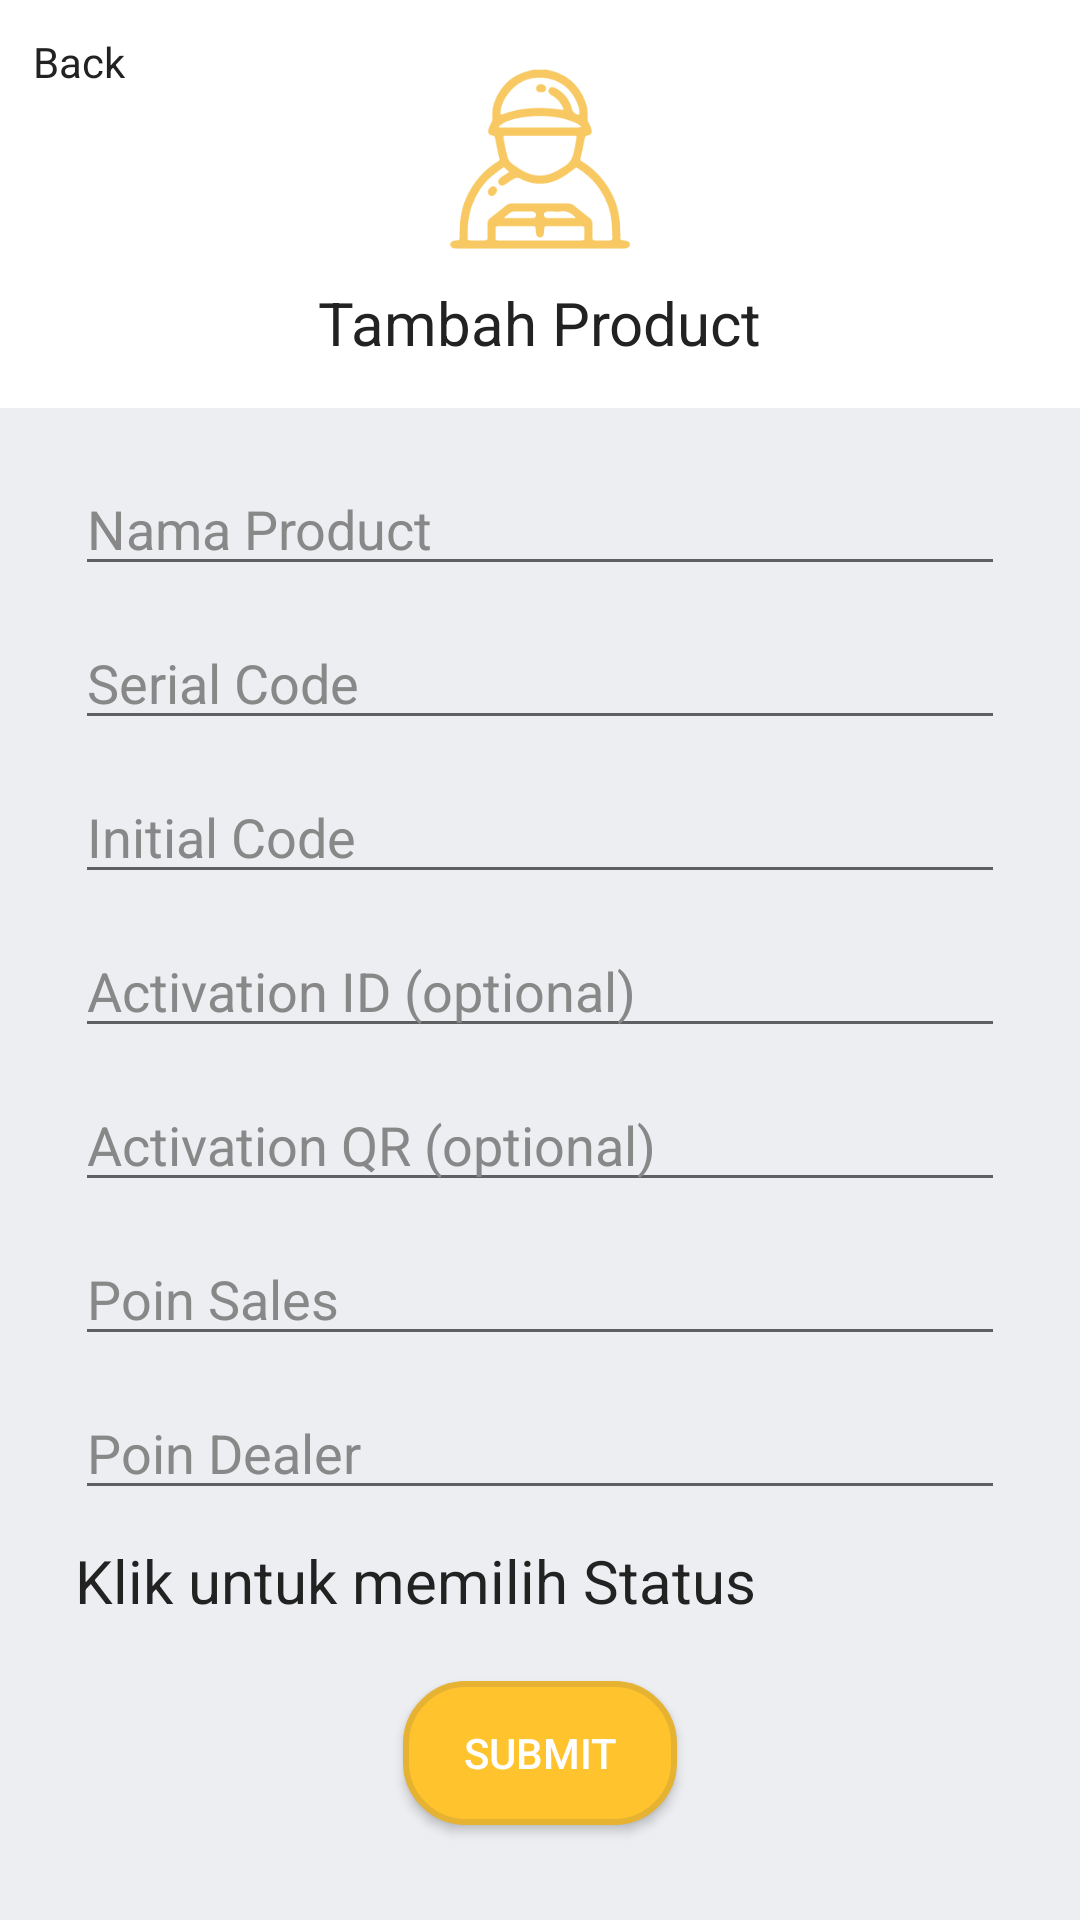

Screen size 1080 × 1920. Icon name, then its box in pixels as (x1, y1, x2, y2):
iconsales: (450, 69, 630, 249)
